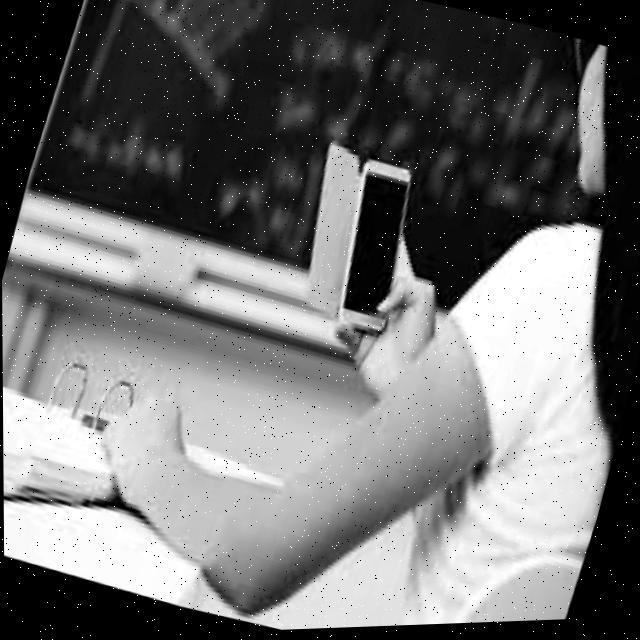phone: (310, 152, 434, 346)
